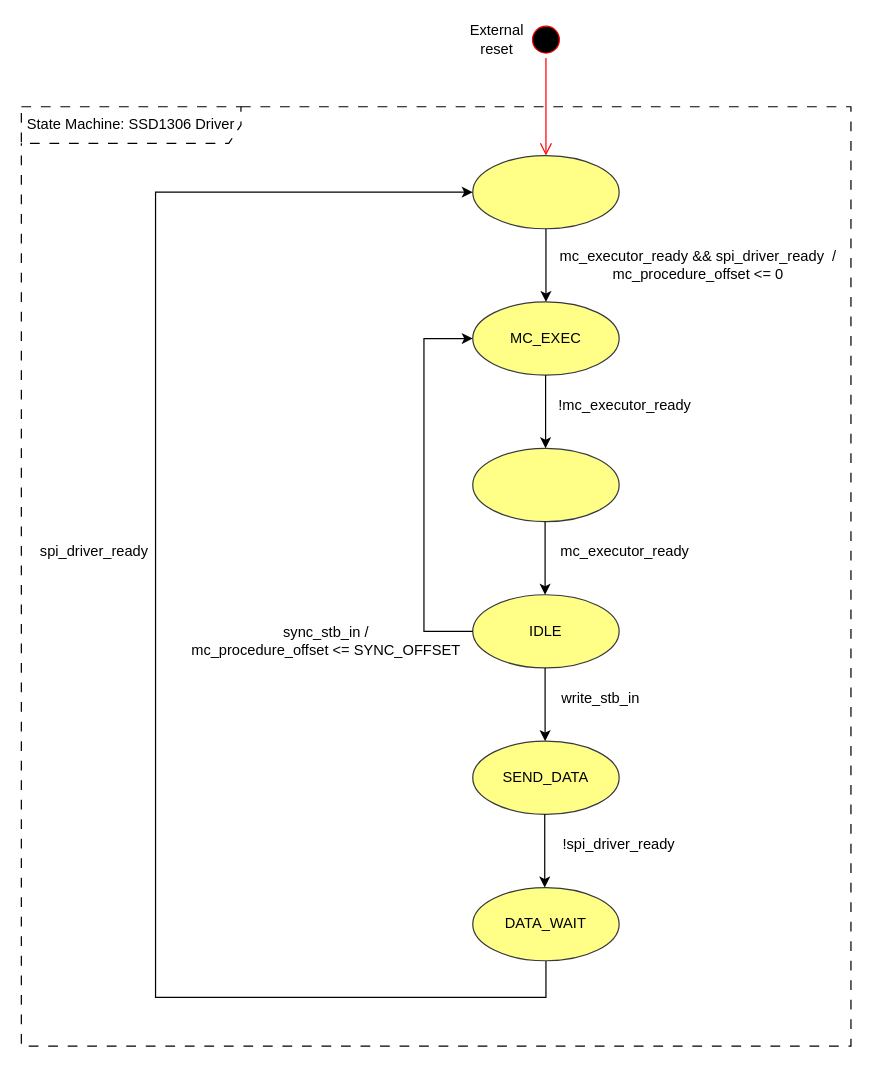
This 872x1068 diagram has some shape labels left out. Here are the shapes that lost their labels. From the top down, the centre of each, then its label:
At point (545, 191): "RESET_WAIT".
At point (545, 484): "MC_WAIT".
